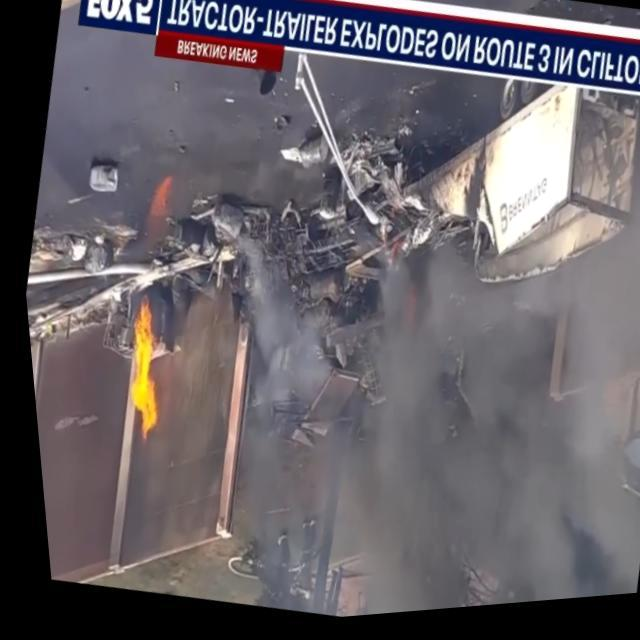fire: (97, 294, 179, 454)
